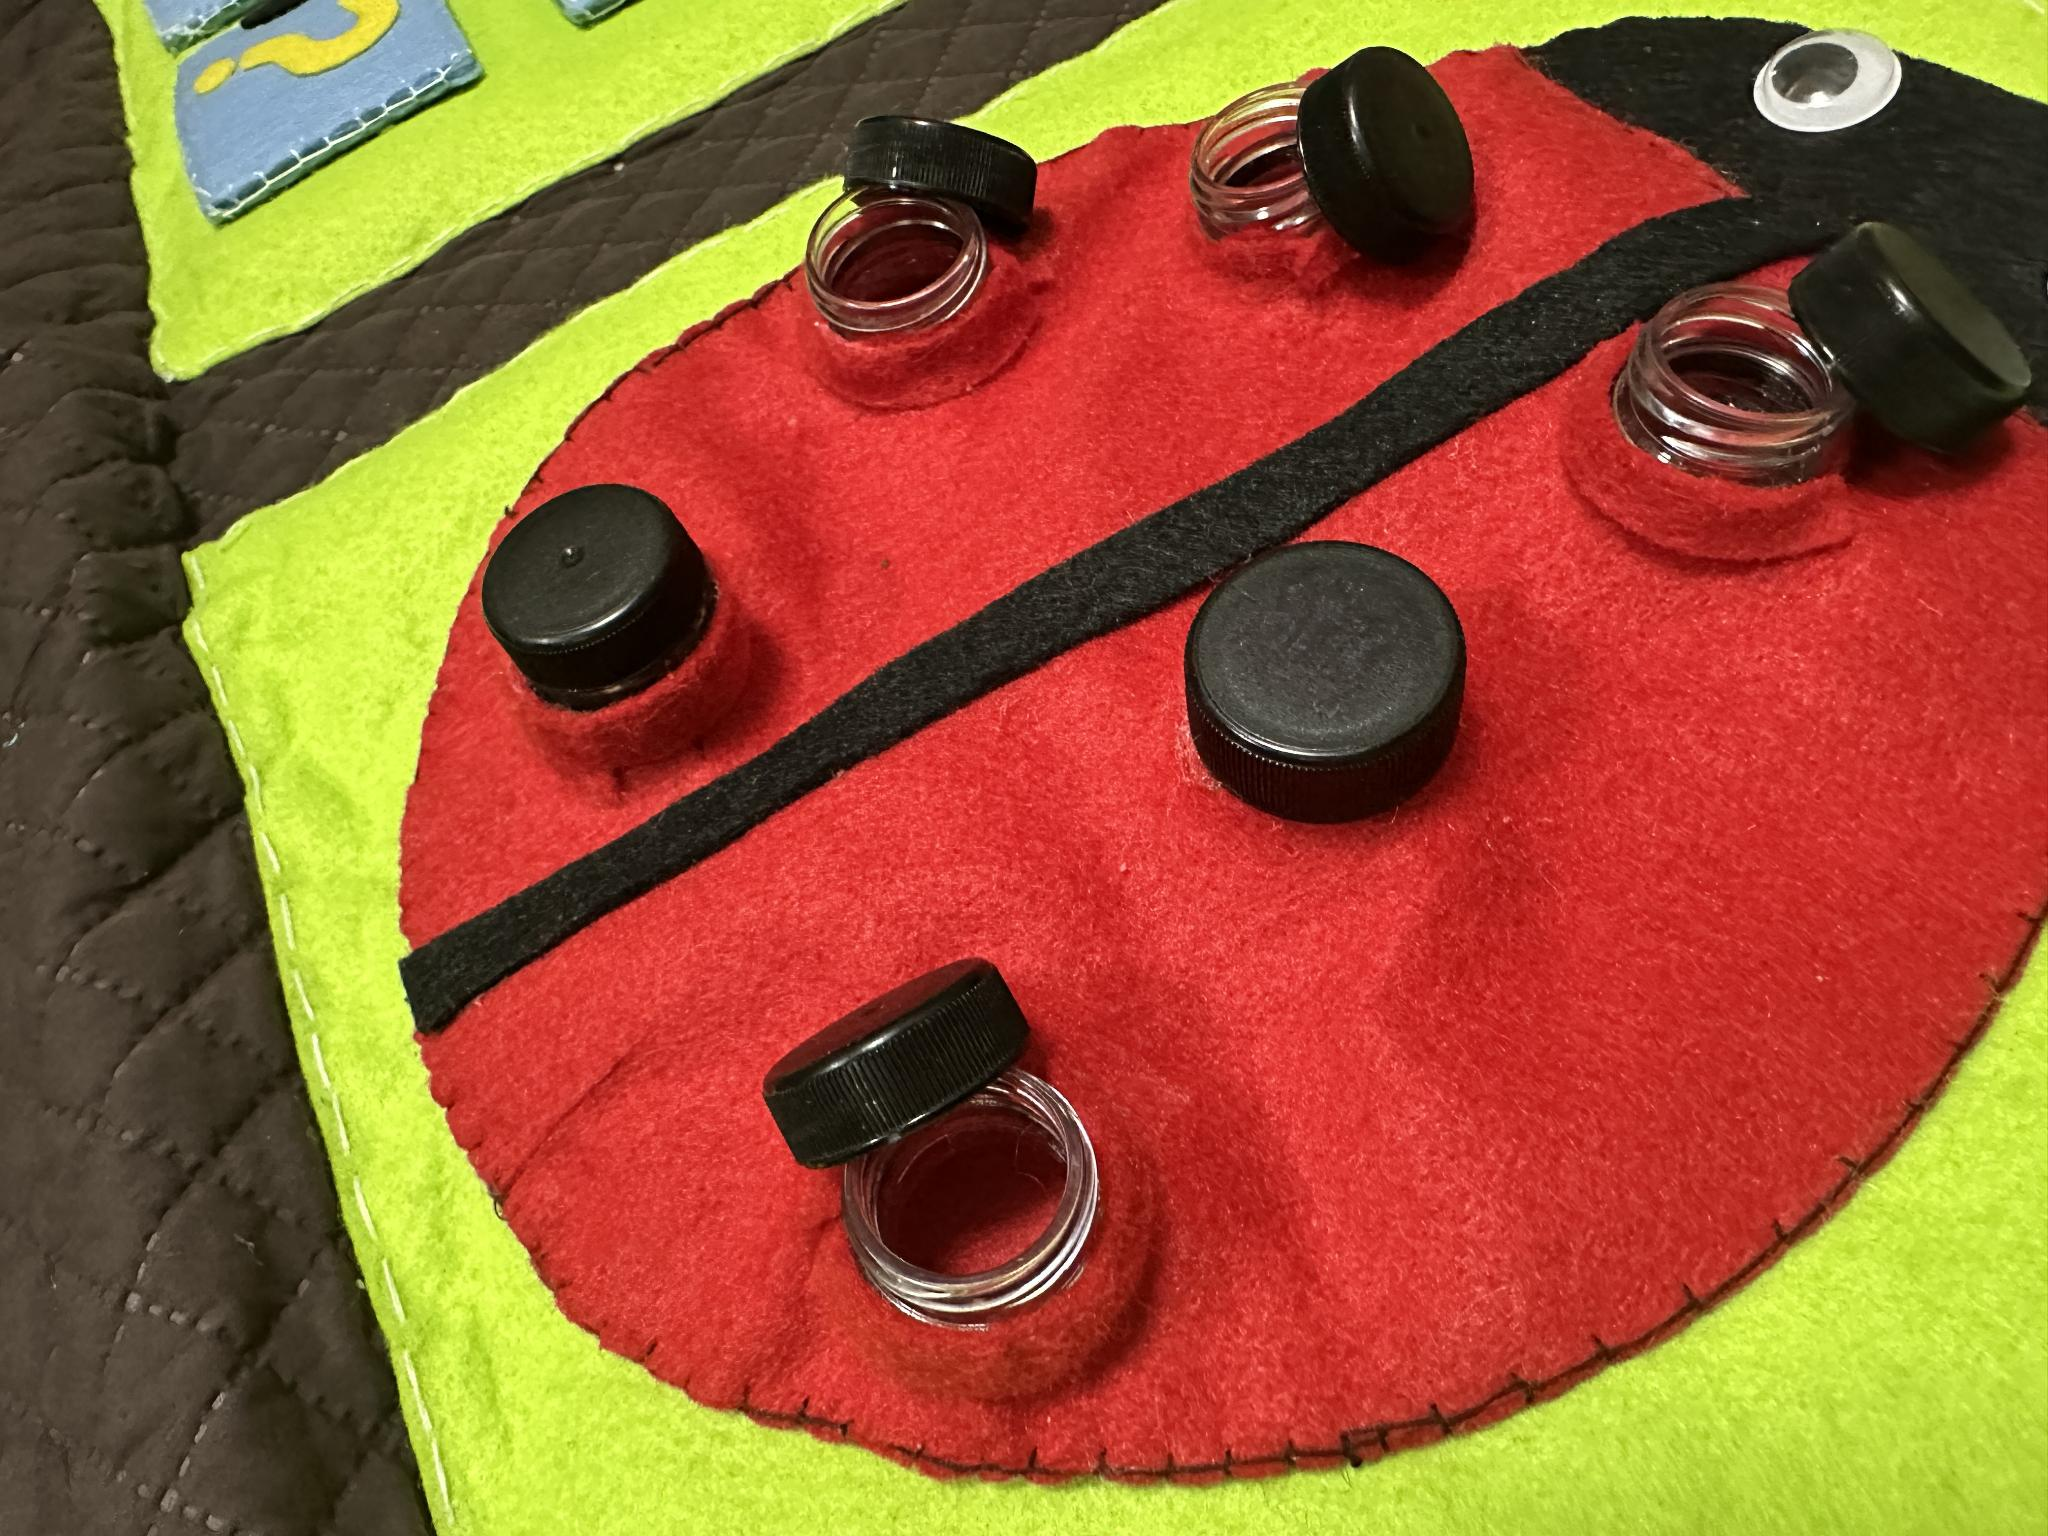cap_ng: (763, 950, 1159, 1394), (1584, 216, 2027, 537), (1176, 42, 1498, 284), (790, 108, 1058, 374)
cap_ok: (1174, 532, 1493, 850), (484, 484, 760, 781)
